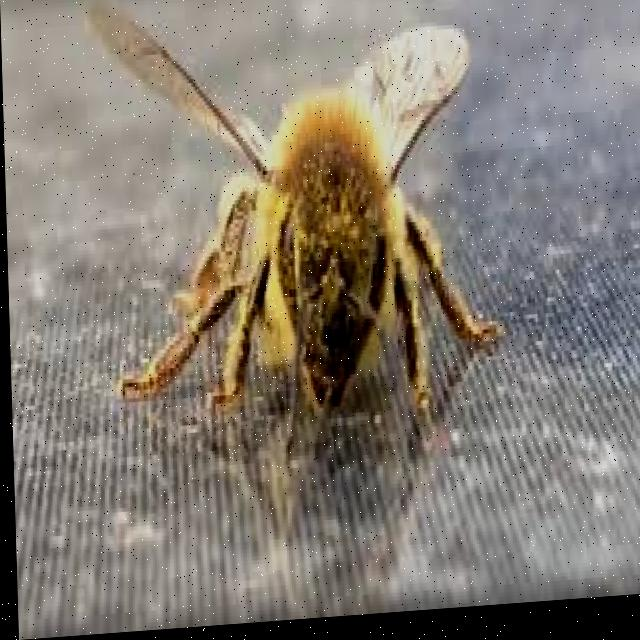Meliponula: (127, 0, 514, 486)
